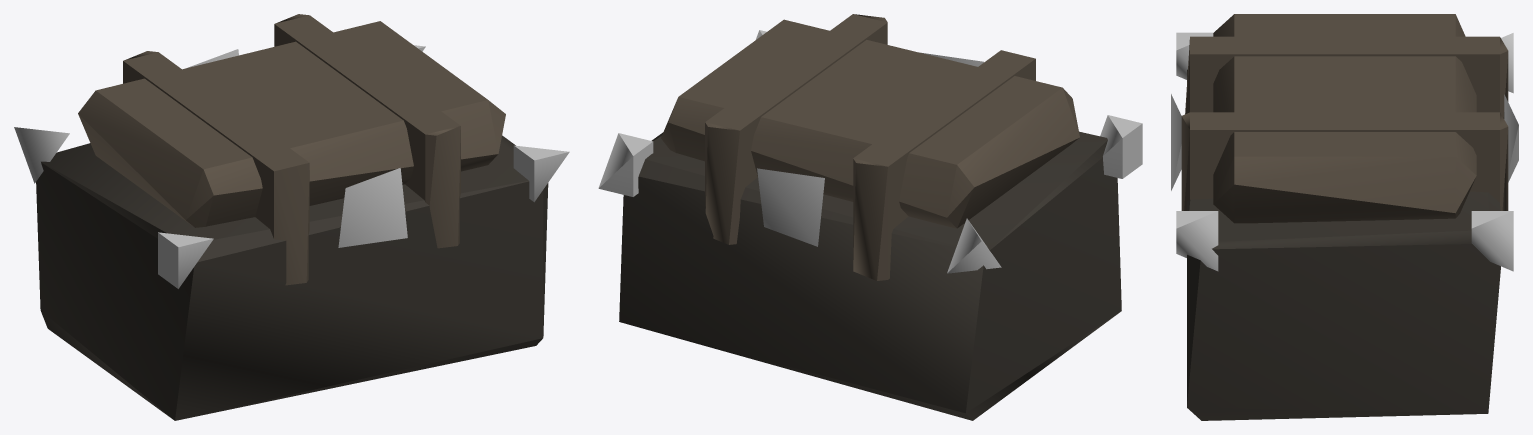
File: loot_cache_lod1.glb
3 renders of one model, left to right at view 1: azimuth 30°, elevation 25°; view 2: azimuth 150°, elevation 25°; view 3: azimuth 270°, elevation 25°, orthographic. The views are drawn at different scales.
Parts seen in each view (by area): view 1: prop.loot_cache; view 2: prop.loot_cache; view 3: prop.loot_cache.
Part boxes in pixels (<box>): prop.loot_cache: <box>14,14,569,420</box>; prop.loot_cache: <box>598,14,1142,420</box>; prop.loot_cache: <box>1171,14,1518,420</box>.
Size of the model in its own units: 0.4237 by 0.2523 by 0.3178.
